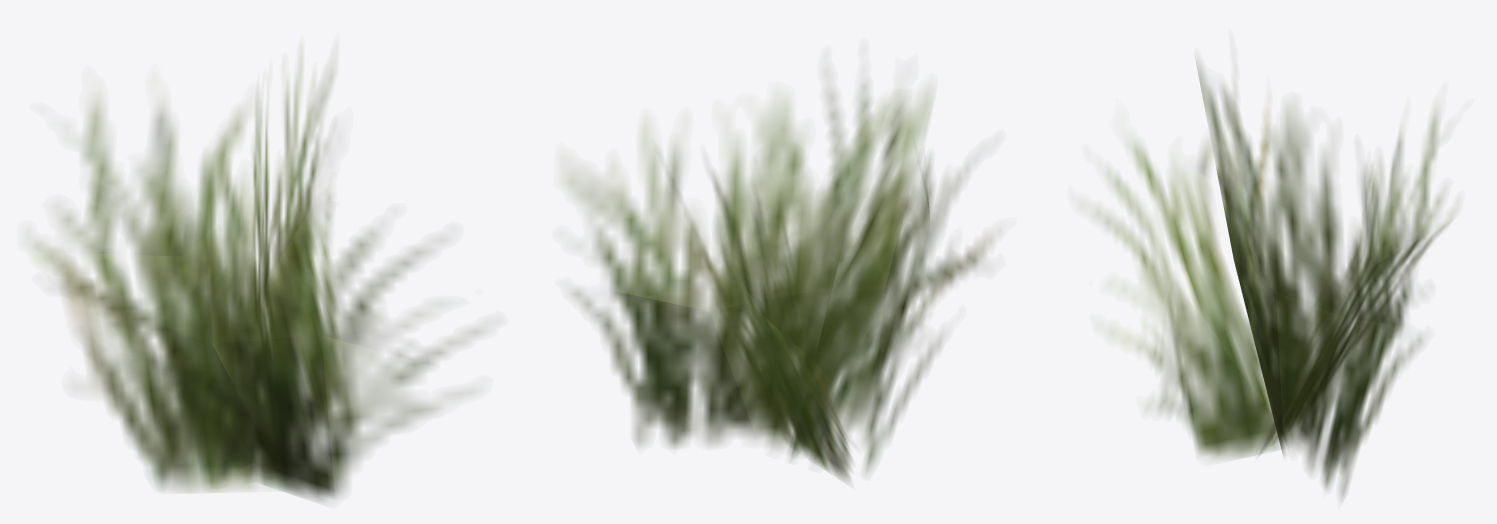
Rendered from bush-small.lod1.glb.
3 views of the same model, side by side, from view 1: azimuth 30°, elevation 25°; view 2: azimuth 150°, elevation 25°; view 3: azimuth 270°, elevation 25° (orthographic). The views are drawn at different scales.
Visible parts, largest first — view 1: Small_bush_1_phong3_0; view 2: Small_bush_1_phong3_0; view 3: Small_bush_1_phong3_0.
Part boxes in pixels (x1=…): Small_bush_1_phong3_0: x1=33, y1=54, x2=480, y2=501; Small_bush_1_phong3_0: x1=564, y1=83, x2=992, y2=481; Small_bush_1_phong3_0: x1=1093, y1=61, x2=1454, y2=498.
Bounding box in the file's own units: 0.9432 × 0.9 × 0.9463.
Materials: 1 (1 with a texture image).
